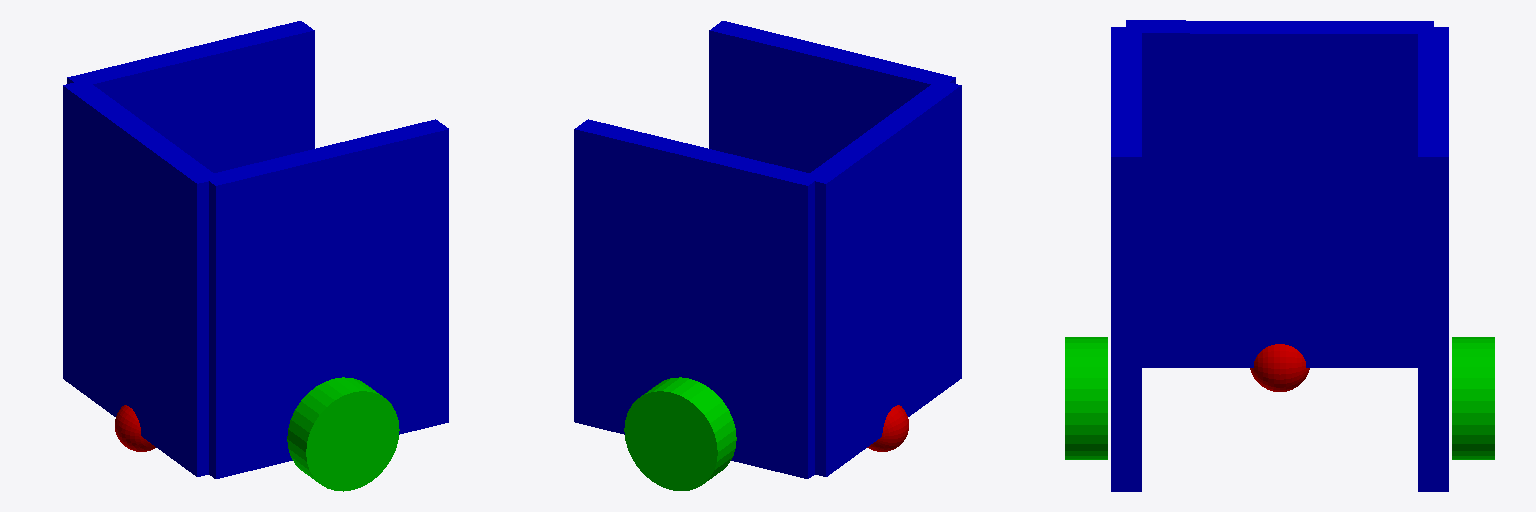
robot.urdf — myrobot:
<?xml version="1.0"?>
<robot name="myrobot">


    <material name="blue">
        <color rgba="0 0 0.8 1"/>
    </material>

    <material name="white">
        <color rgba="1 1 1 1"/>
    </material>

    <material name="green">
        <color rgba="0 0.8 0 1"/>
    </material>

    <material name="red">
        <color rgba="0.8 0 0 1"/>
    </material>


    <link name =  "base_footprint"/>
    

    <link name = "base_link">
        <inertial>
            <origin xyz="0 0 0" rpy="0 0 0"/>
            <mass value="3.978"/>
            <inertia ixx="0.021858680" ixy="0.0" ixz="0.010020353"
                    iyy="0.078572349" iyz="-0.0"
                    izz="0.091971324"/>
        </inertial>

        <!--Right Panel-->
        <visual>
            <origin xyz="0 -0.25 0.35" rpy="0 0 0" />
            <geometry>
                <box size="0.5 0.05 0.6" />
            </geometry>
            <material name="blue" />    
        </visual>
        <collision>
            <origin xyz="0 -0.25 0.35" rpy="0 0 0" />
            <geometry>
                <box size="0.5 0.05 0.6" />
            </geometry>
            <material name="blue" />
        </collision>
        
        <!--Left Panel-->
        <visual>
            <origin xyz="0 0.25 0.35" rpy="0 0 0" />
            <geometry>
                <box size="0.5 0.05 0.6" />
            </geometry>
            <material name="blue" />    
        </visual>
        <collision>
            <origin xyz="0 0.25 0.35" rpy="0 0 0" />
            <geometry>
                <box size="0.5 0.05 0.6" />
            </geometry>
            <material name="blue" />
        </collision>

        <!--Back Panel-->
        <visual>
            <origin xyz="-0.25 0 0.35" rpy="0 0 1.57" />
            <geometry>
                <box size="0.5 0.05 0.6" />
            </geometry>
            <material name="blue" />    
        </visual>
        <collision>
            <origin xyz="-0.25 0 0.35" rpy="0 0 1.57" />
            <geometry>
                <box size="0.5 0.05 0.6" />
            </geometry>
            <material name="blue" />
        </collision>
    </link>


    <joint name = "base_joint"  type = "fixed">
        <parent link="base_footprint"/>
        <child link="base_link"/>
        <origin xyz="0 0 0" rpy="0 0 0" />
        <axis xyz="0 1 0" rpy="0 0 0" />
    </joint>





    <!--Right Wheel-->
    <link name="right_wheel">
        <visual>
            <geometry>
                <cylinder length="0.070" radius="0.1"/>
            </geometry>
            <origin rpy="1.57075 0 0" xyz="0 0 0"/>
            <material name="green"/>
        </visual>
        <collision>
            <origin rpy="1.57075 0 0" xyz="0 0 0" />
            <geometry>
                <cylinder length="0.070" radius="0.1"/>
            </geometry>
            <material name="green" />
        </collision>
         <inertial>
            <origin xyz="0 0 0" rpy="0 0 0"/>
            <mass value="3.978"/>
            <inertia ixx="0.021858680" ixy="0.0" ixz="0.010020353"
                    iyy="0.078572349" iyz="-0.0"
                    izz="0.091971324"/>
        </inertial>

    </link>


    <joint name = "right_wheel_joint"  type = "continuous">
        <parent link="base_link"/>
        <child link="right_wheel"/>
        <origin xyz="0 0.315 0.1" rpy="0 0 0" />
        <axis xyz="0 1 0" rpy="0 0 0" />
    </joint>


    <!-- mu1 - 100 , mu2 - 100 , kp - 600000 kd -1  -->
    <gazebo reference="right_wheel">
        <mu1 value="100"/>			
        <mu2 value="100"/>
        <kp>600000</kp>
        <ki>1</ki>
        <kd>1</kd>
        <dampingFactor>0.05</dampingFactor>
        <fdir1 value="1 0 0"/>
        <material>Gazebo/Grey</material>
    </gazebo>


    <transmission name="right_wheel_trans" type="SimpleTransmission">
        <type>transmission_interface/SimpleTransmission</type>
        <actuator name="right_wheel_motor">
            <mechanicalReduction>1</mechanicalReduction>
        </actuator>
        <joint name="right_wheel_joint">
            <hardwareInterface>VelocityJointInterface</hardwareInterface>
        </joint>
    </transmission>






    <!--Left Wheel-->
    <link name="left_wheel">
        <visual>
            <geometry>
                <cylinder length="0.070" radius="0.1"/>
            </geometry>
            <origin rpy="1.57075 0 0" xyz="0 0 0"/>
            <material name="green"/>
        </visual>
        <collision>
            <origin rpy="1.57075 0 0" xyz="0 0 0" />
            <geometry>
                <cylinder length="0.070" radius="0.1"/>
            </geometry>
            <material name="green" />
        </collision>
         <inertial>
            <origin xyz="0 0 0" rpy="0 0 0"/>
            <mass value="3.978"/>
            <inertia ixx="0.021858680" ixy="0.0" ixz="0.010020353"
                    iyy="0.078572349" iyz="-0.0"
                    izz="0.091971324"/>
        </inertial>

    </link>

    <joint name = "left_wheel_joint"  type = "continuous">
        <parent link="base_link"/>
        <child link="left_wheel"/>
        <origin xyz="0 -0.315 0.1" rpy="0 0 0" />
        <axis xyz="0 1 0" rpy="0 0 0" />
    </joint>

    <!-- mu1 - 100 , mu2 - 100 , kp - 600000 kd -1  -->
    <gazebo reference="left_wheel">
        <mu1 value="100"/>
        <mu2 value="100"/>
        <kp>600000</kp>
        <kd>1</kd>
        <dampingFactor>0.05</dampingFactor>
        <fdir1 value="1 0 0"/>
    </gazebo>

    <transmission name="left_wheel_trans" type="SimpleTransmission">
        <type>transmission_interface/SimpleTransmission</type>
        <actuator name="left_wheel_motor">
            <mechanicalReduction>1</mechanicalReduction>
        </actuator>
        <joint name="left_wheel_joint">
            <hardwareInterface>VelocityJointInterface</hardwareInterface>
        </joint>
    </transmission>

    <!--Caster wheel-->
    <link name="caster">
        <visual>
            <geometry>
                <sphere radius="0.05"/>
            </geometry>
            <origin rpy="1.57075 0 0" xyz="0 0 0"/>
            <material name="red"/>
        </visual>
        <collision>
            <origin rpy="1.57075 0 0" xyz="0 0 0" />
            <geometry>
                <sphere radius="0.05"/>
            </geometry>
            <material name="red" />
        </collision>
    </link>

    <joint name = "caster_joint"  type = "fixed">
        <parent link="base_link"/>
        <child link="caster"/>
        <origin xyz="-0.25 0 0.05" rpy="0 0 0" />
        <axis xyz="0 1 0" rpy="0 0 0" />
    </joint>



    


    <!--
   <gazebo>
        <plugin name="gazebo_ros_control" filename="libgazebo_ros_control.so">
        <robotNamespace>/</robotNamespace>
        <legacyModeNS>true</legacyModeNS>
        </plugin>
    </gazebo>
    -->

    <!-- Gazebo plugin for ROS Control -->
    <gazebo>
        <plugin name="gazebo_ros_control" filename="libgazebo_ros_control.so">
        <robotNamespace>/</robotNamespace>
        </plugin>
    </gazebo>
</robot>

--- What the picture shows (computed from the rendered views, not written in the file) ---
The picture shows the robot from 3 angles, left to right: view 1: azimuth 30°, elevation 25°; view 2: azimuth 150°, elevation 25°; view 3: azimuth 270°, elevation 25°; orthographic projection.
Model myrobot with 5 links and 4 joints (2 continuous, 2 fixed), rooted at base_footprint, posed every joint at zero.
Visible links, largest first — view 1: base_link, left_wheel, caster; view 2: base_link, right_wheel, caster; view 3: base_link, right_wheel, left_wheel, caster.
Boxes of the visible links, x1=… form: base_link: x1=63, y1=21, x2=448, y2=478; left_wheel: x1=287, y1=377, x2=399, y2=491; caster: x1=115, y1=405, x2=155, y2=451; base_link: x1=574, y1=21, x2=961, y2=478; right_wheel: x1=624, y1=377, x2=736, y2=490; caster: x1=867, y1=405, x2=908, y2=451; base_link: x1=1111, y1=20, x2=1448, y2=491; right_wheel: x1=1452, y1=337, x2=1494, y2=459; left_wheel: x1=1065, y1=337, x2=1107, y2=459; caster: x1=1250, y1=344, x2=1309, y2=391.
Size in the robot's own frame: 0.55 by 0.7 by 0.65 metres.
Geometry: primitives only (box / cylinder / sphere), no mesh files.